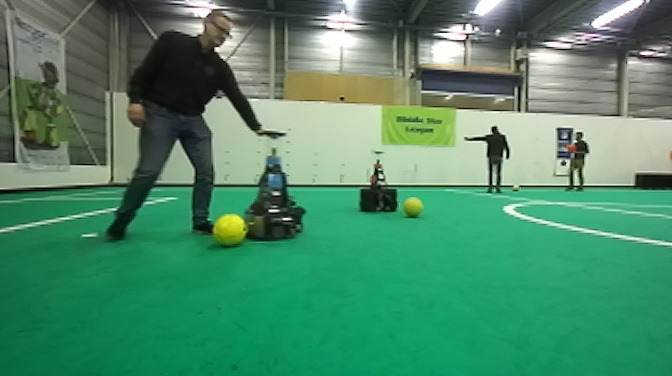ball: (211, 212, 247, 250), (403, 197, 423, 219), (510, 182, 521, 192), (567, 144, 577, 155)
human: (103, 8, 277, 244), (463, 124, 511, 194), (565, 128, 590, 191)
robot: (238, 130, 308, 241), (358, 150, 399, 214)
